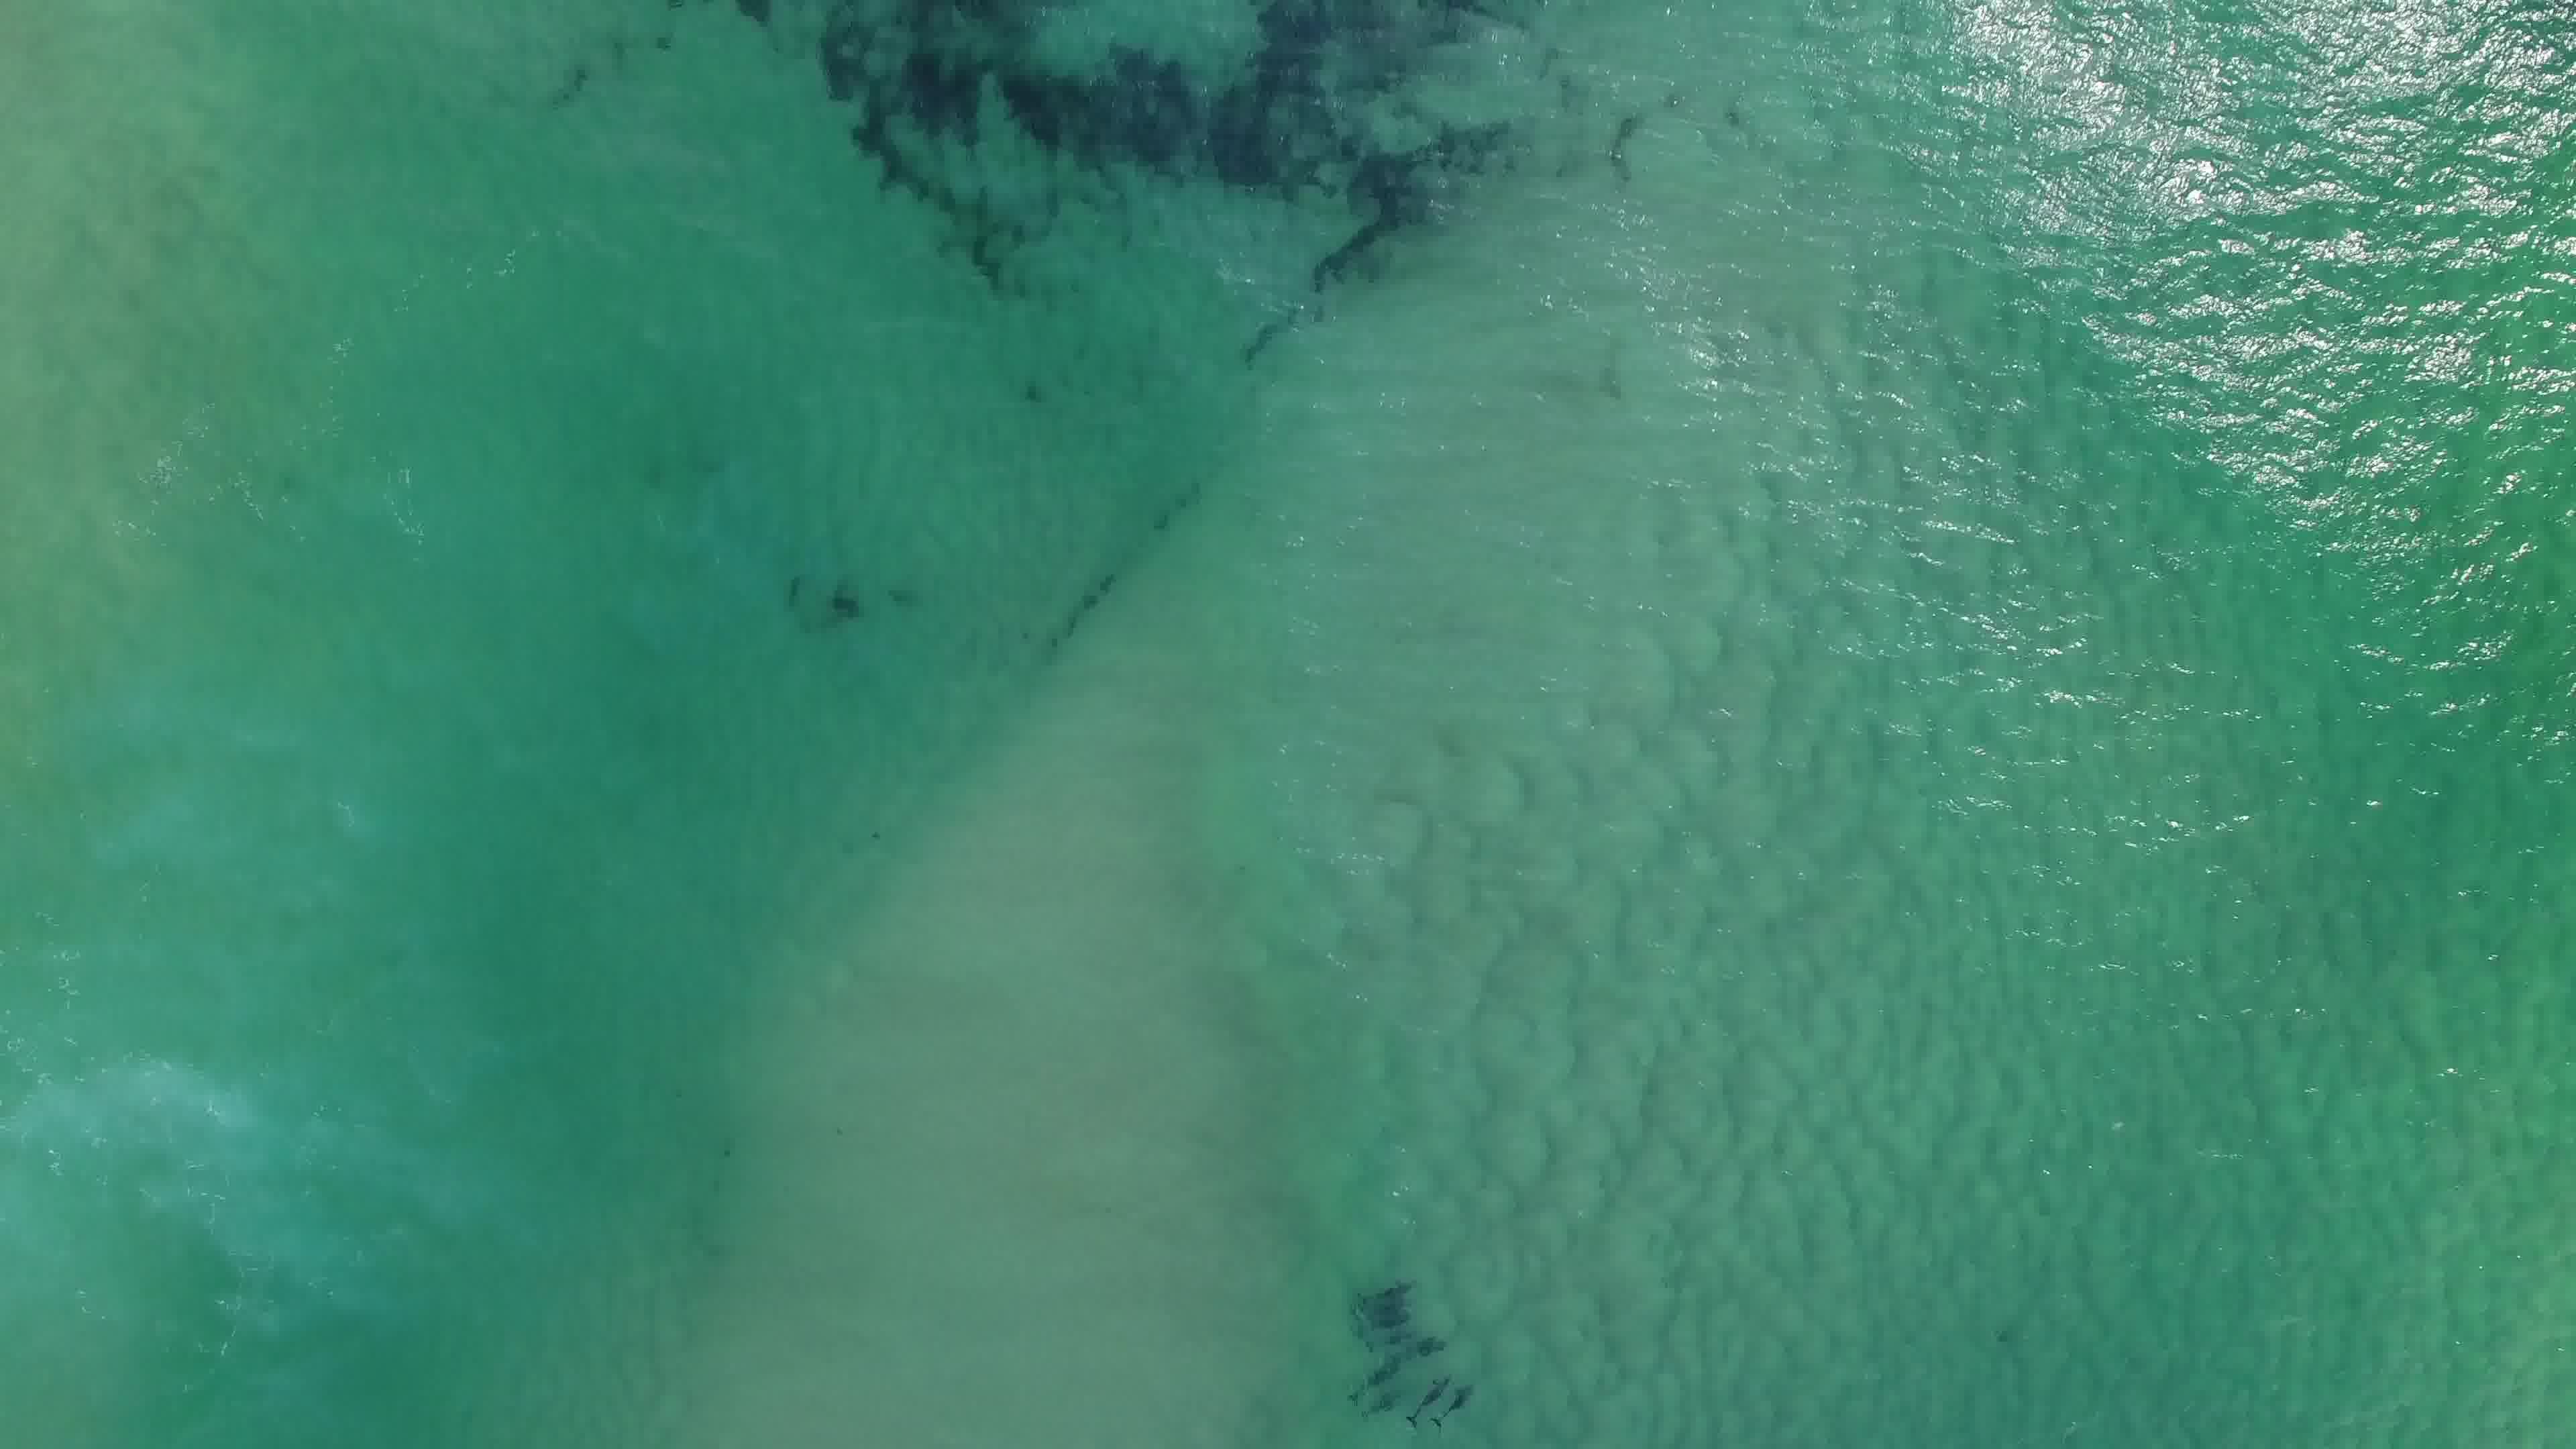dolphin: (1428, 1385, 1481, 1430), (1399, 1375, 1451, 1414), (1350, 1276, 1419, 1302), (1345, 1355, 1396, 1387), (1348, 1307, 1419, 1330), (1361, 1323, 1424, 1346), (1348, 1297, 1410, 1316), (1410, 1339, 1453, 1361)
